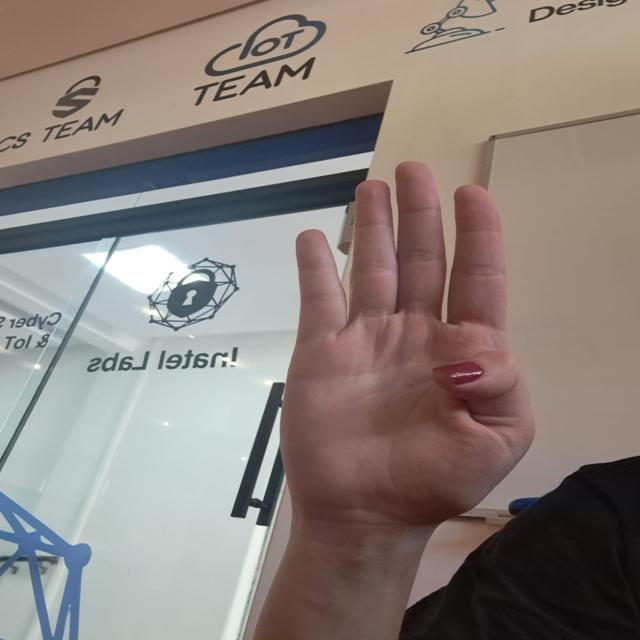B: (270, 148, 550, 522)
